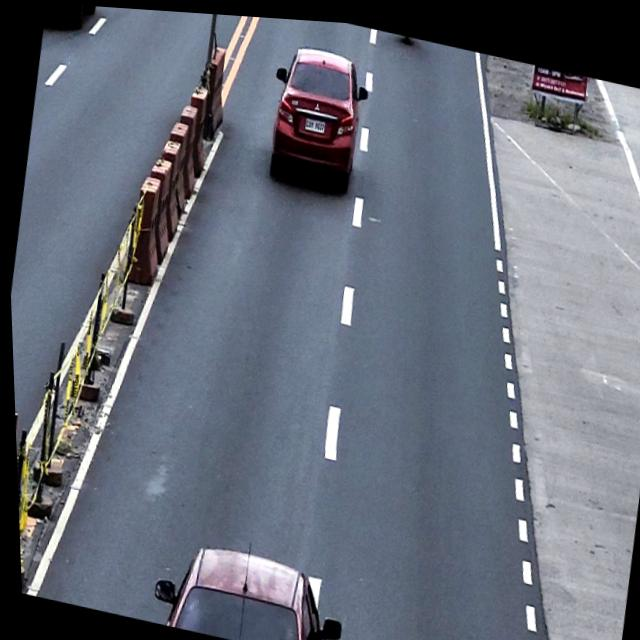Car: (141, 529, 349, 640), (259, 35, 379, 195)
License-Plate: (302, 113, 327, 132)
